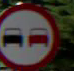No overtake: (0, 0, 64, 70)
